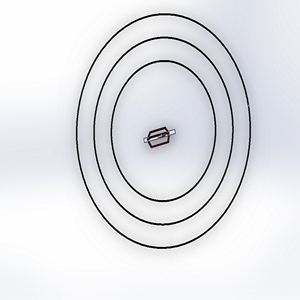circle: (67, 7, 257, 255)
submarine: (137, 111, 185, 160)
